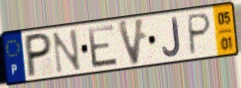E: (86, 23, 120, 70)
J: (161, 16, 182, 59)
N: (51, 27, 83, 76)
P: (25, 31, 53, 80), (187, 11, 214, 57)
V: (116, 16, 147, 68)
